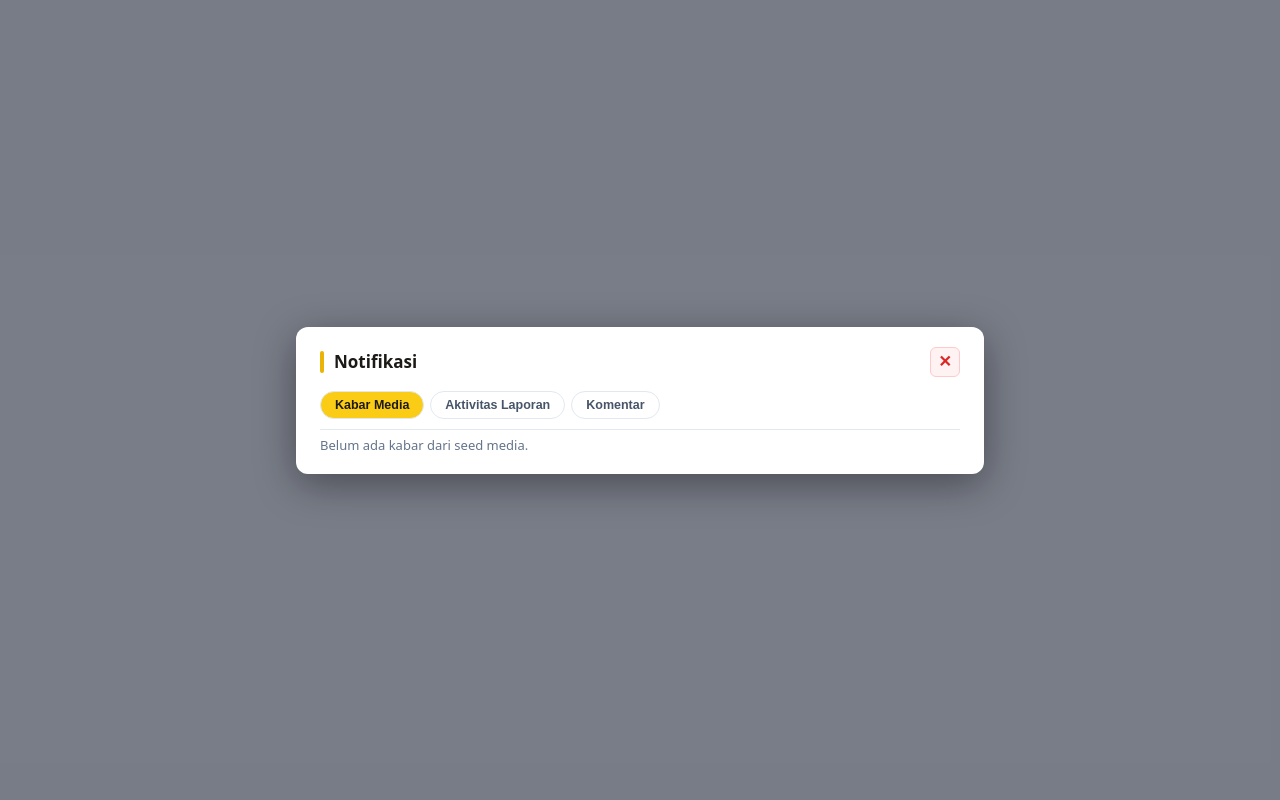
NotifikasiModal: 3 tab (Kabar Media / Aktivitas Laporan / Komentar) › tab Aktivitas Laporan KOSONG saat belum ada laporan manual warga / aktivitas otoritas
Click the button "Aktivitas Laporan" at x=498, y=404, box [430,390,565,418]
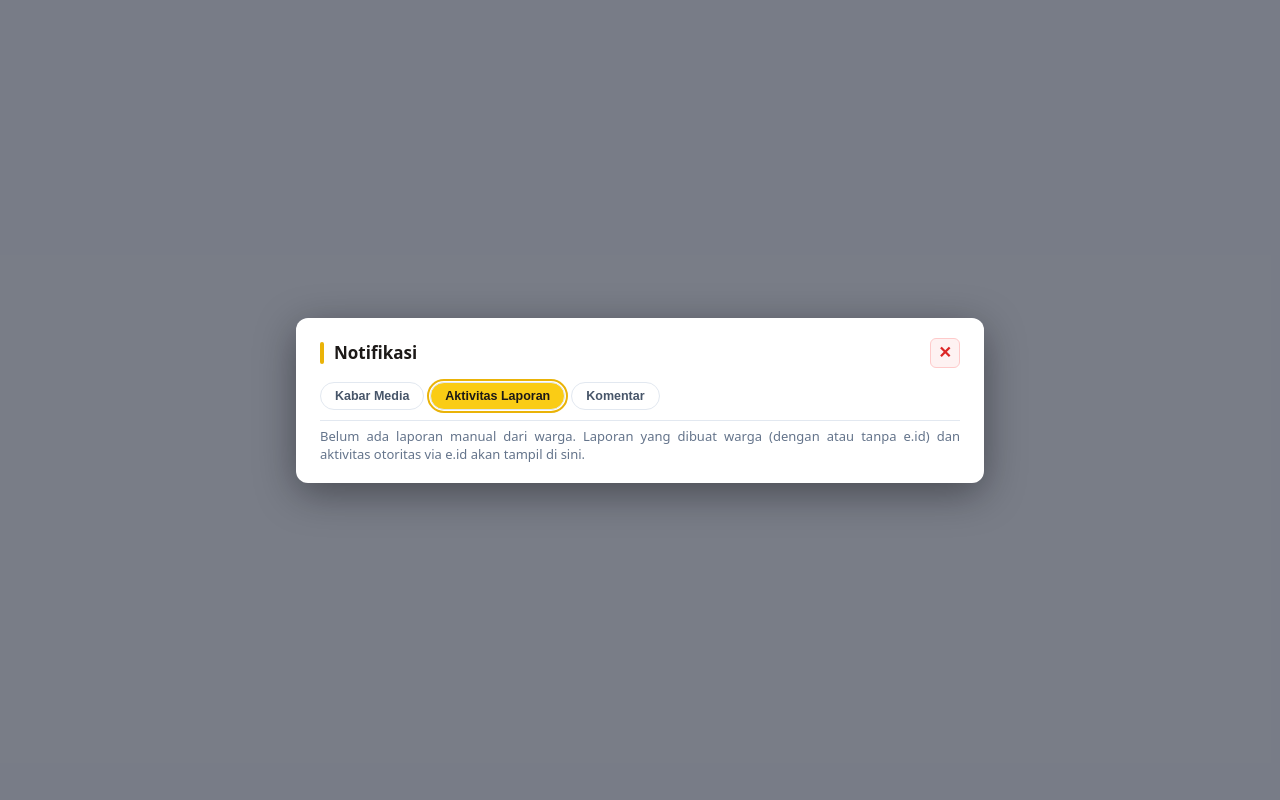
Expected: the text "Belum ada laporan manual dari warga" is shown, [320,426,960,462]
